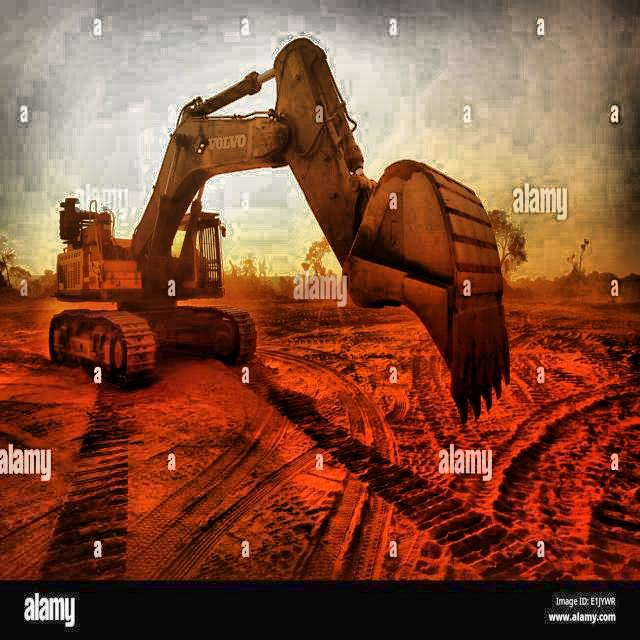excavator: (44, 35, 514, 428)
